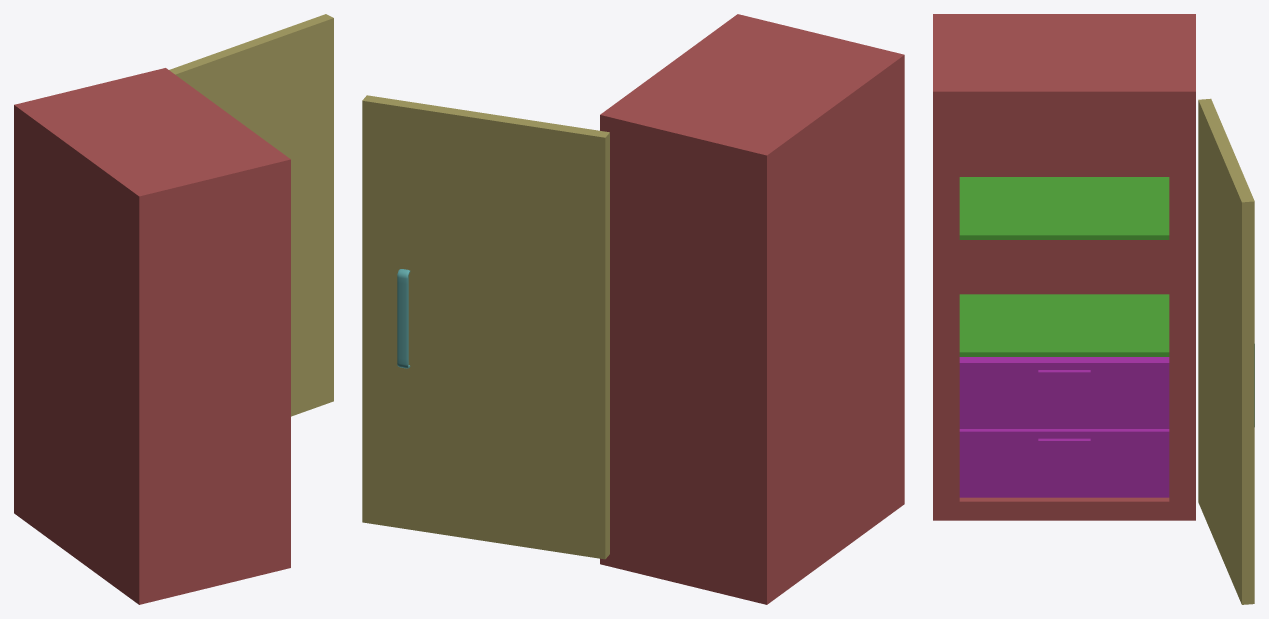
The model's file is Kühlschrank_low.fbx.
The picture shows the model from 3 angles, left to right: view 1: azimuth 30°, elevation 25°; view 2: azimuth 150°, elevation 25°; view 3: azimuth 270°, elevation 25°; orthographic projection. The views are drawn at different scales.
Parts seen in each view (by area): view 1: polySurface1; view 2: polySurface1; view 3: polySurface1.
Boxes of the visible parts, bbox=[...] form: polySurface1: bbox=[14, 14, 333, 604]; polySurface1: bbox=[362, 14, 904, 604]; polySurface1: bbox=[933, 14, 1254, 604].
Bounding box in the file's own units: 1.58 × 1.8 × 1.22.
